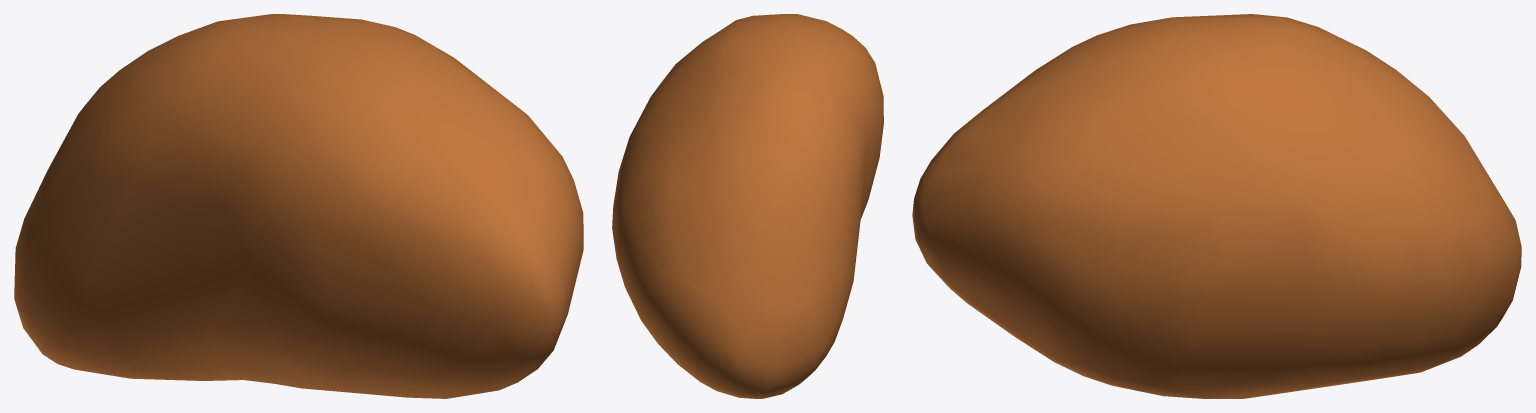
Rendered from Thalamus_right.glb.
3 views of the same model, side by side, from view 1: azimuth 30°, elevation 25°; view 2: azimuth 150°, elevation 25°; view 3: azimuth 270°, elevation 25° (orthographic). The views are drawn at different scales.
Visible parts, largest first — view 1: Thalamus.r_grp1.025; view 2: Thalamus.r_grp1.025; view 3: Thalamus.r_grp1.025.
Boxes of the visible parts, box(x1,y1,x2,y2) form: Thalamus.r_grp1.025: box(14, 14, 583, 398); Thalamus.r_grp1.025: box(612, 14, 883, 398); Thalamus.r_grp1.025: box(912, 14, 1521, 398).
Size of the model in its own units: 0.0227 by 0.0229 by 0.0354.
